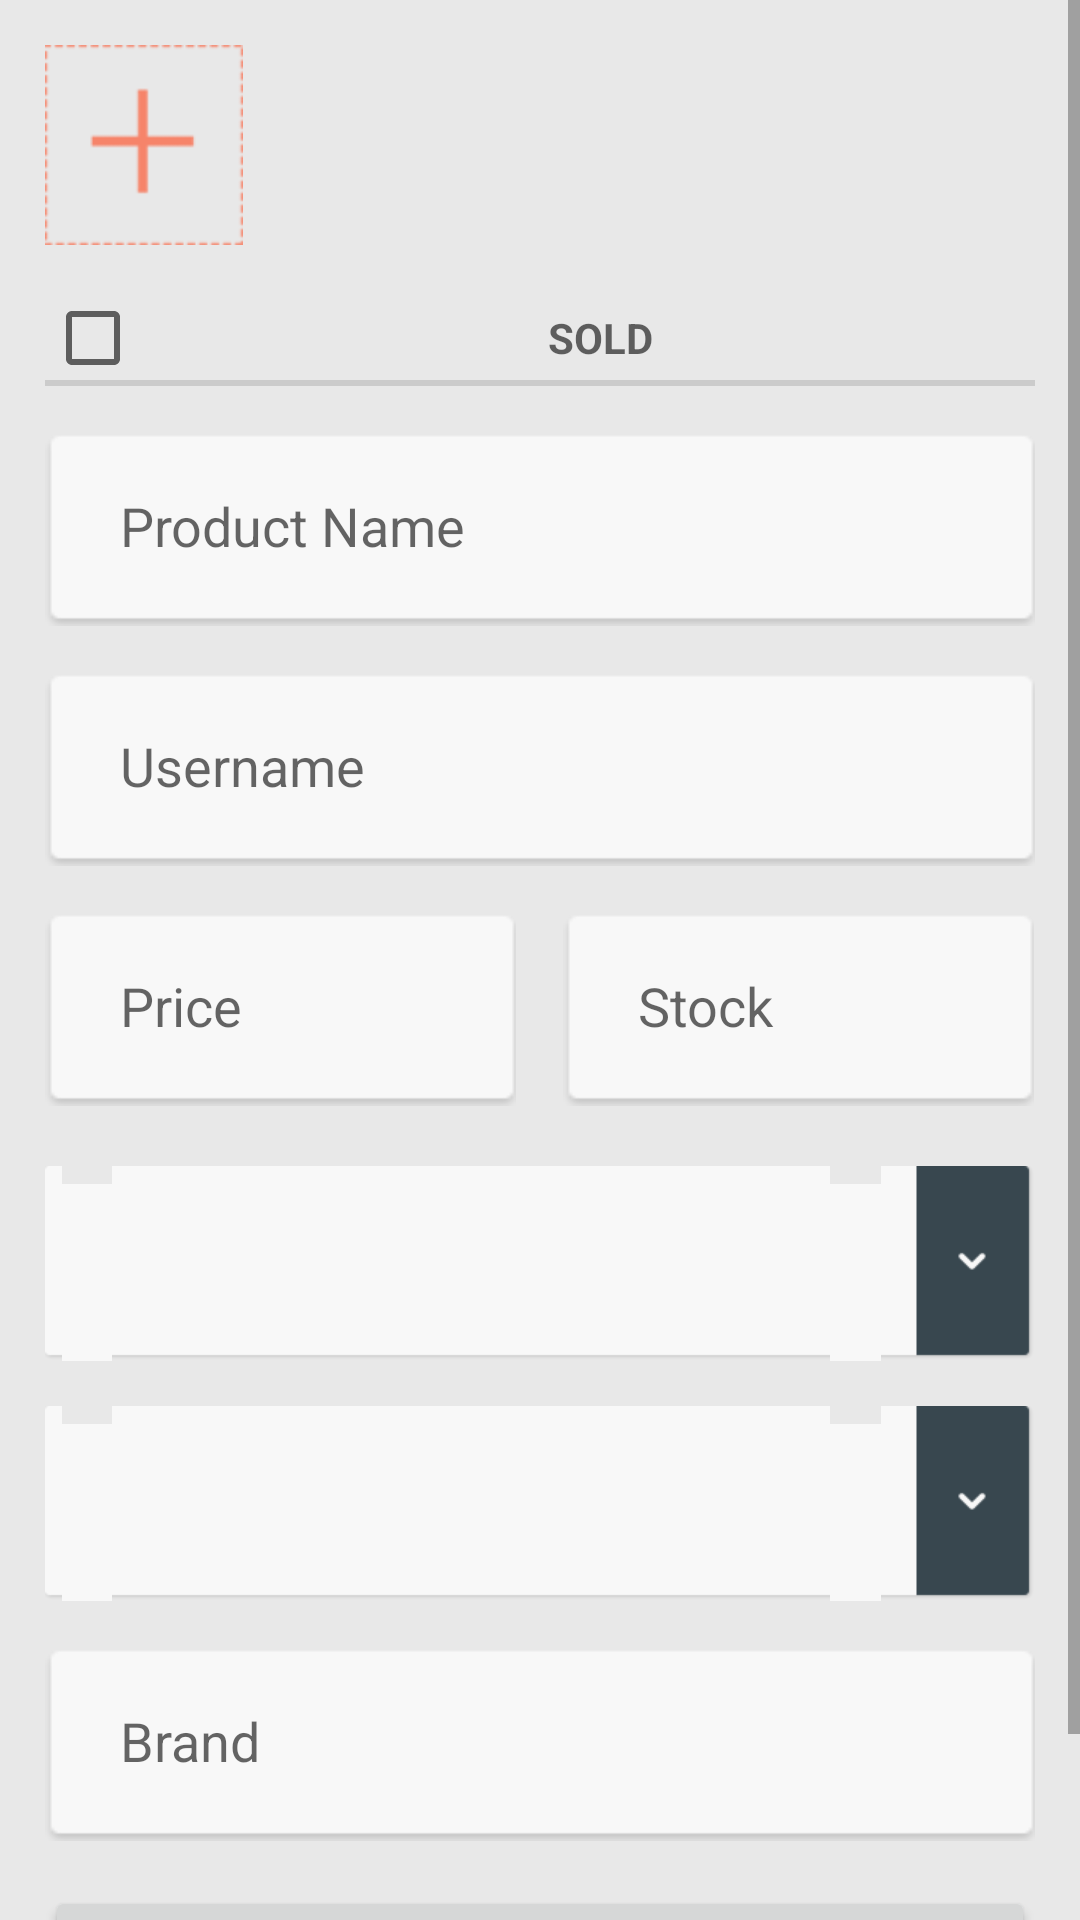

Icon bounding boxes for this 1080x1920 phone screenshot, format (x1, y1, x2, y2):
dash plus: (45, 45, 243, 245)
